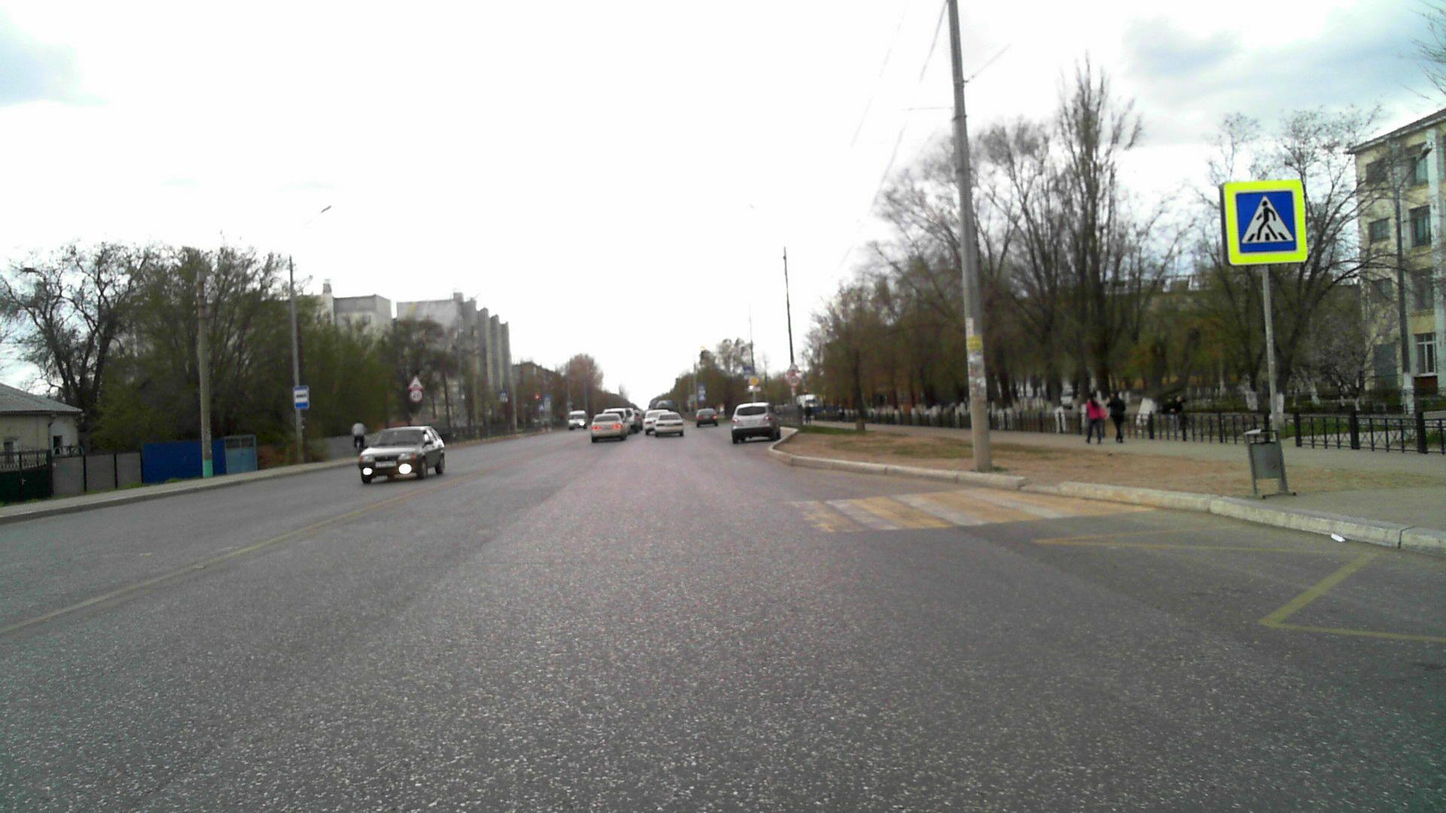road_sign: (1223, 182, 1308, 263)
